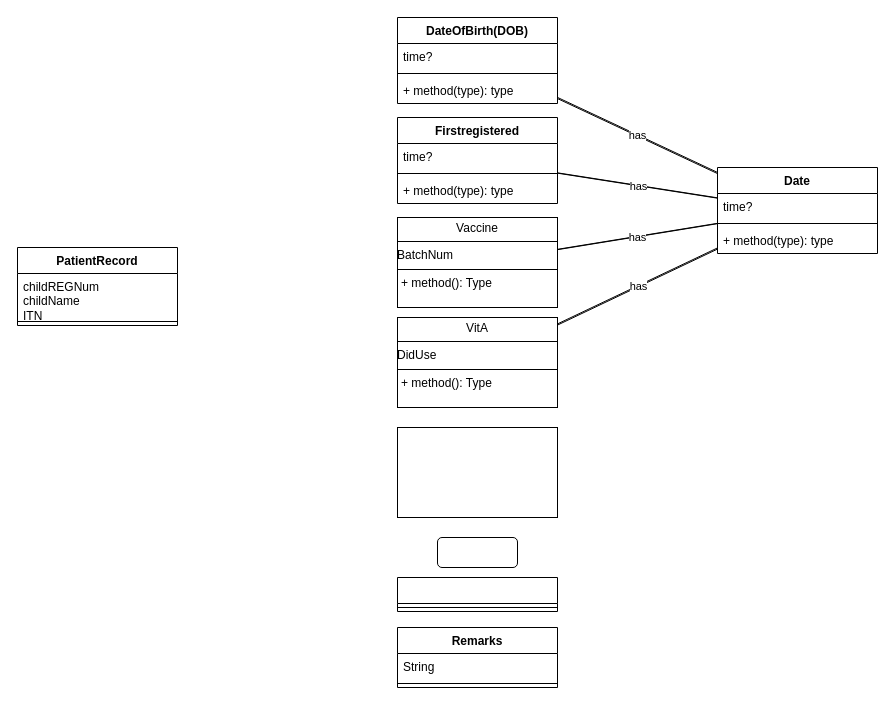
Image size: 895x705. Some labels were removed from this diagram. Each missing label, with the box of its shape:
Format very broad: (436, 536, 518, 568)
Location: (396, 576, 558, 612)
Mother Name Parity + method(): Type: (396, 426, 558, 518)
